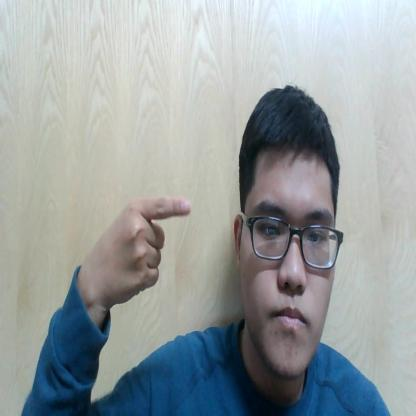left: (83, 183, 196, 321)
